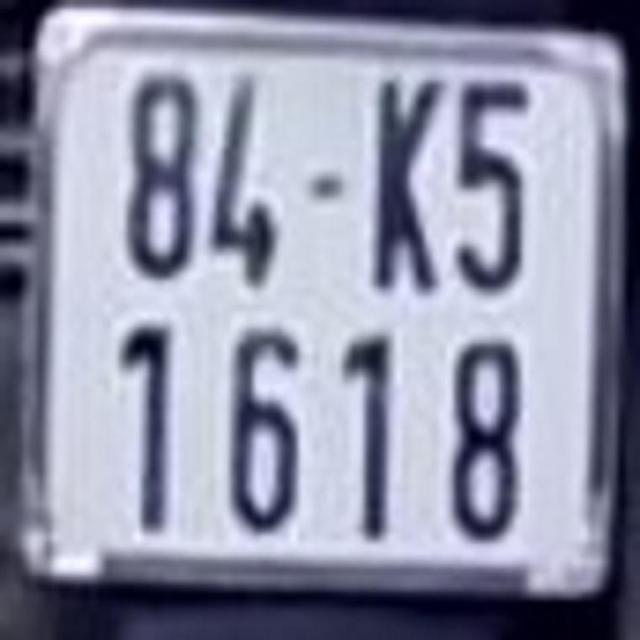1: (117, 319, 179, 532), (343, 329, 401, 546)
4: (209, 71, 287, 291)
5: (456, 78, 530, 302)
6: (229, 323, 303, 536)
8: (454, 338, 525, 537), (132, 70, 194, 276)
K: (375, 74, 444, 296)
